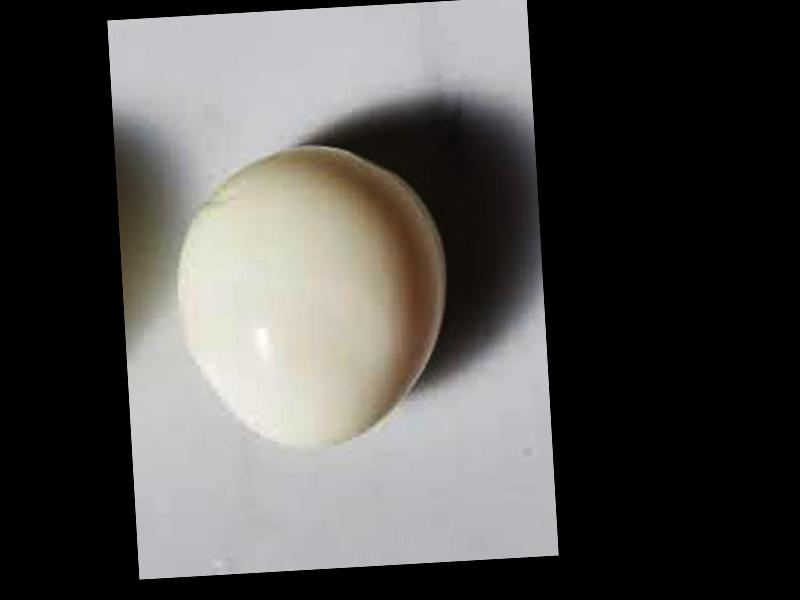Eggs: (170, 137, 455, 452)
